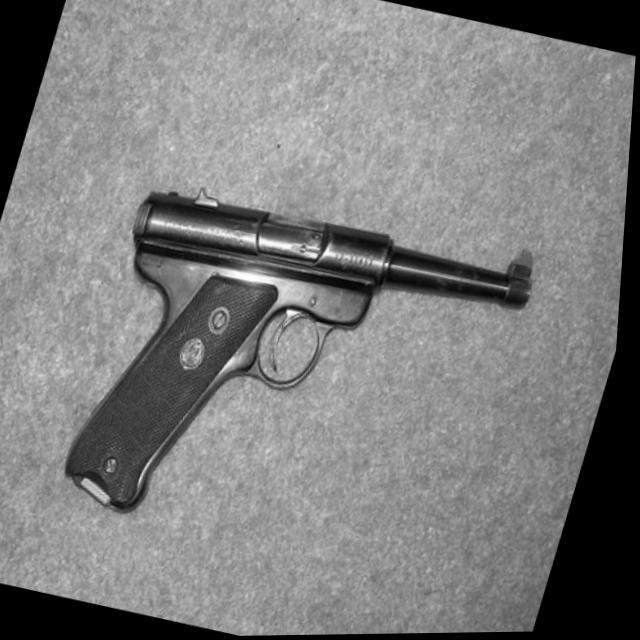weapon: (53, 160, 552, 588)
